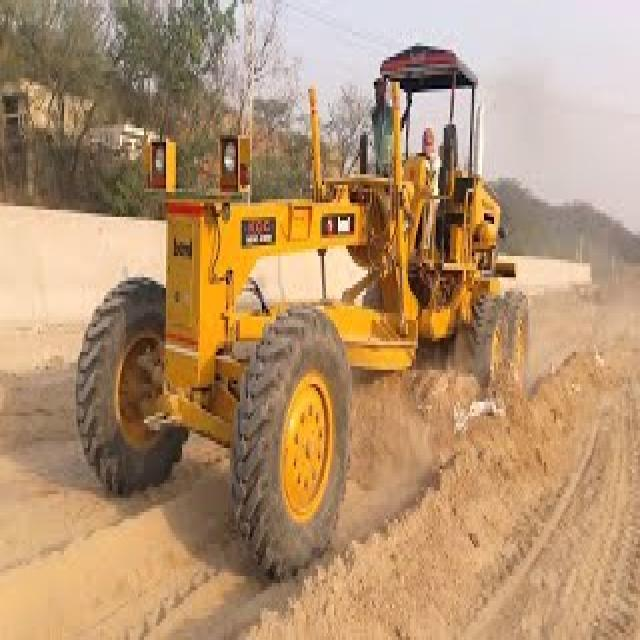buldozerpayloadergrader: (88, 38, 529, 572)
